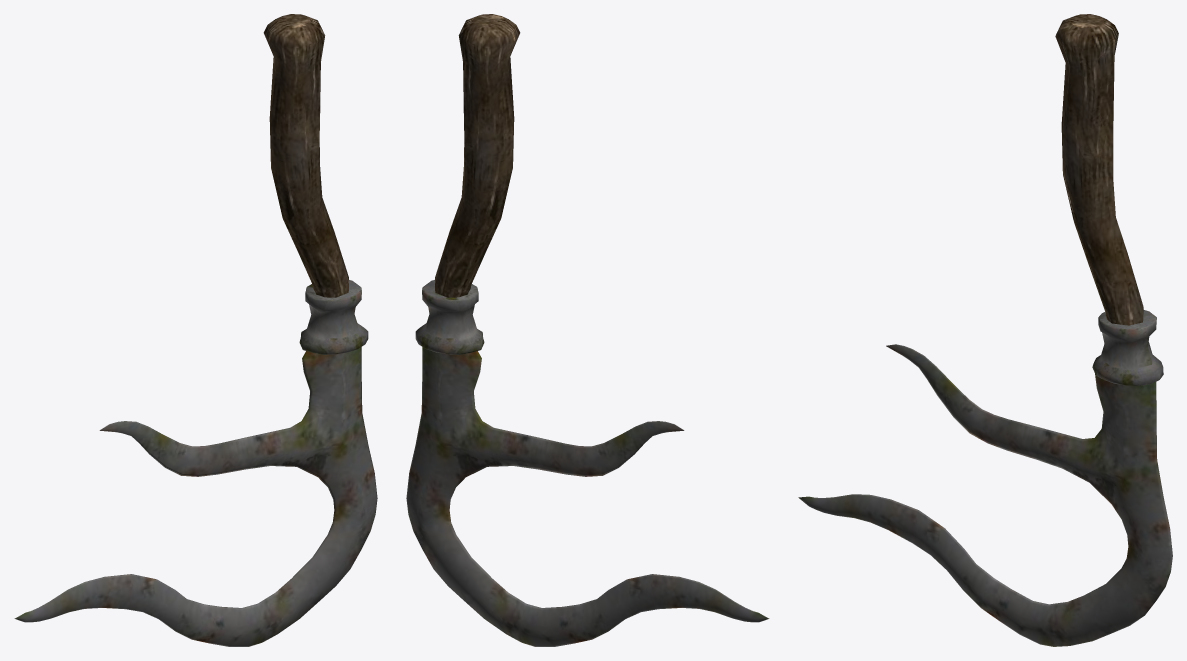
File: weapon-wp_a_0406.glb
The picture shows the model from 3 angles, left to right: view 1: azimuth 30°, elevation 25°; view 2: azimuth 150°, elevation 25°; view 3: azimuth 330°, elevation 25°; orthographic projection. The views are drawn at different scales.
Visible parts, largest first — view 1: wp_a_0406_mesh; view 2: wp_a_0406_mesh; view 3: wp_a_0406_mesh.
Boxes of the visible parts, bbox=[...] form: wp_a_0406_mesh: bbox=[14, 14, 377, 646]; wp_a_0406_mesh: bbox=[406, 14, 769, 646]; wp_a_0406_mesh: bbox=[798, 14, 1172, 646].
Size of the model in its own units: 0.3677 by 0.5949 by 0.0507.
Materials: 1 (1 with a texture image).
